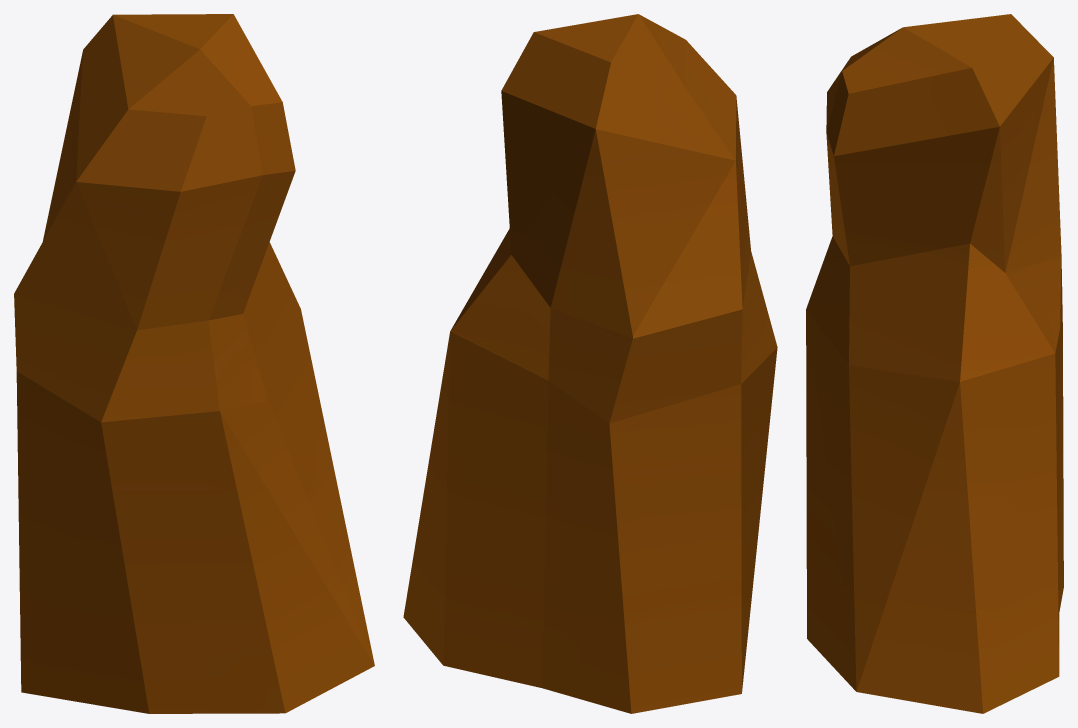
The model's file is Landscape_rock_001.obj.
The picture shows the model from 3 angles, left to right: view 1: azimuth 30°, elevation 25°; view 2: azimuth 150°, elevation 25°; view 3: azimuth 270°, elevation 25°; orthographic projection. The views are drawn at different scales.
Visible parts, largest first — view 1: Landscape_rock.001; view 2: Landscape_rock.001; view 3: Landscape_rock.001.
Boxes of the visible parts, x1,y1,x2,y2 form: Landscape_rock.001: (14,14,374,713); Landscape_rock.001: (403,14,777,713); Landscape_rock.001: (806,14,1063,713).
Bounding box in the file's own units: 16.63 × 29.29 × 11.49.
